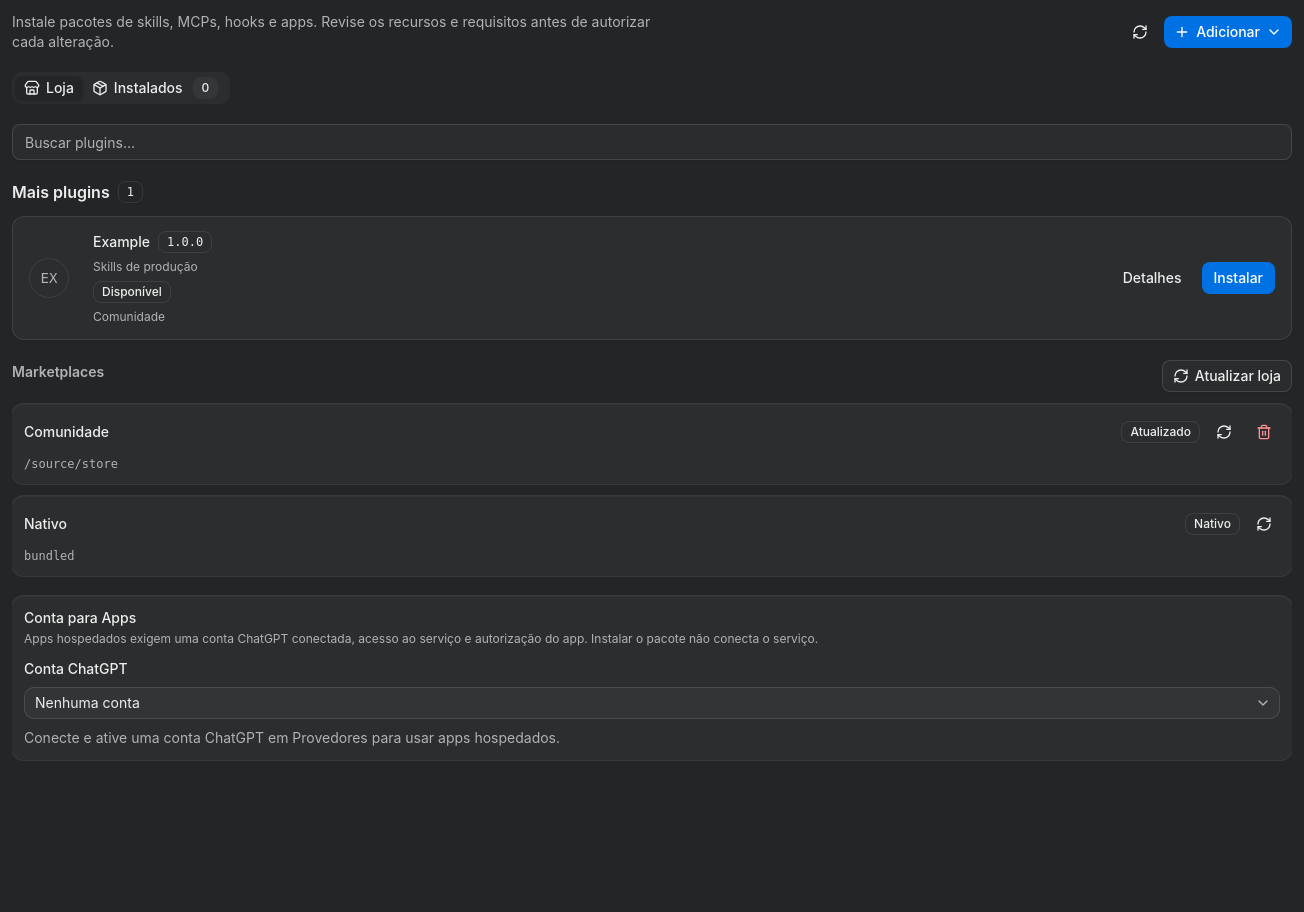
PluginsSettings › keeps the catalog horizontal inside vertical settings and exposes full add choices
Click the tab "Instalados 0". click: [155, 88]
box: [83, 76, 227, 100]
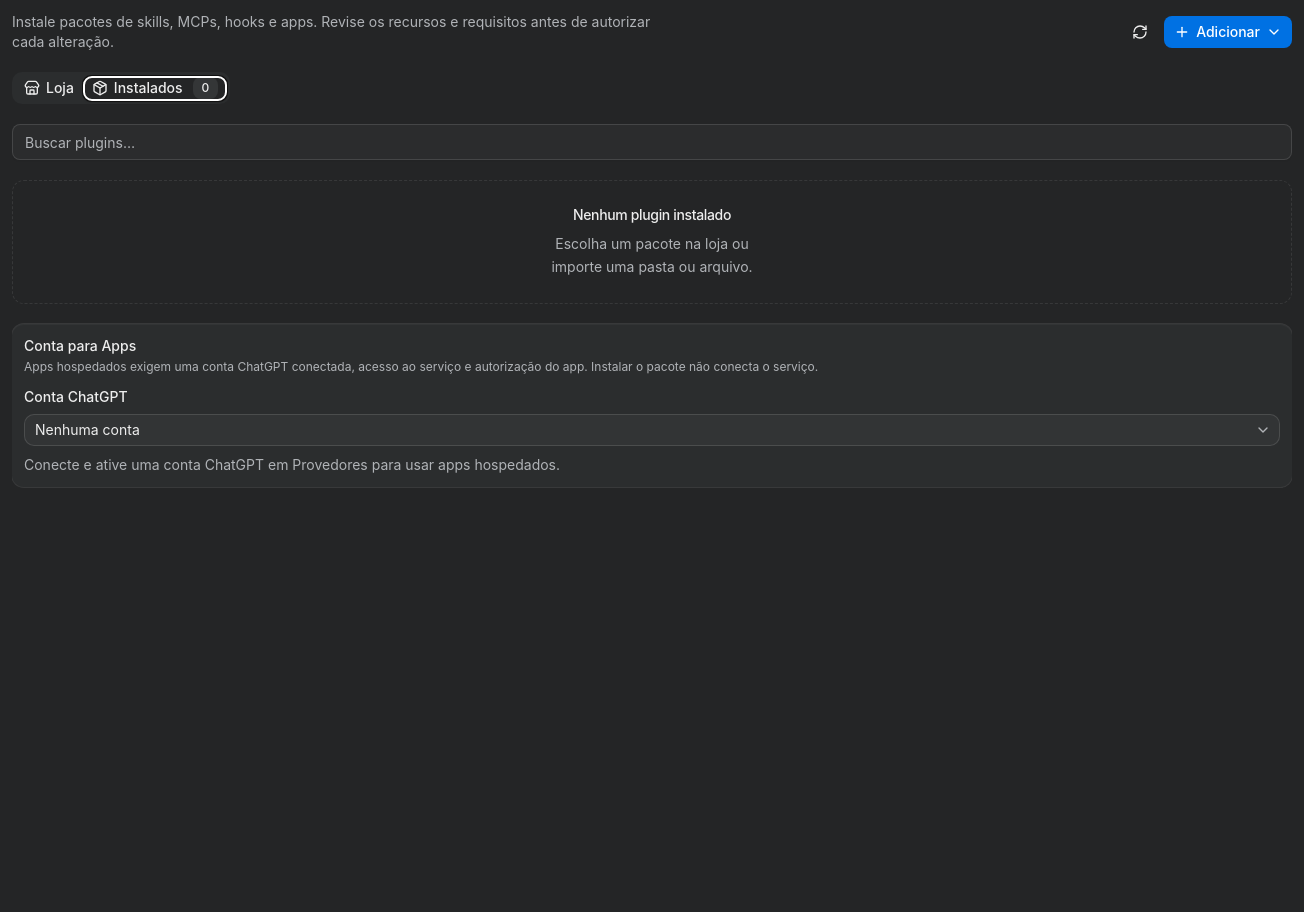
Expected: the text "Nenhum plugin instalado" is shown, [573, 205, 731, 225]
Click the button "Adicionar". click: [1228, 32]
box: [1164, 16, 1292, 48]
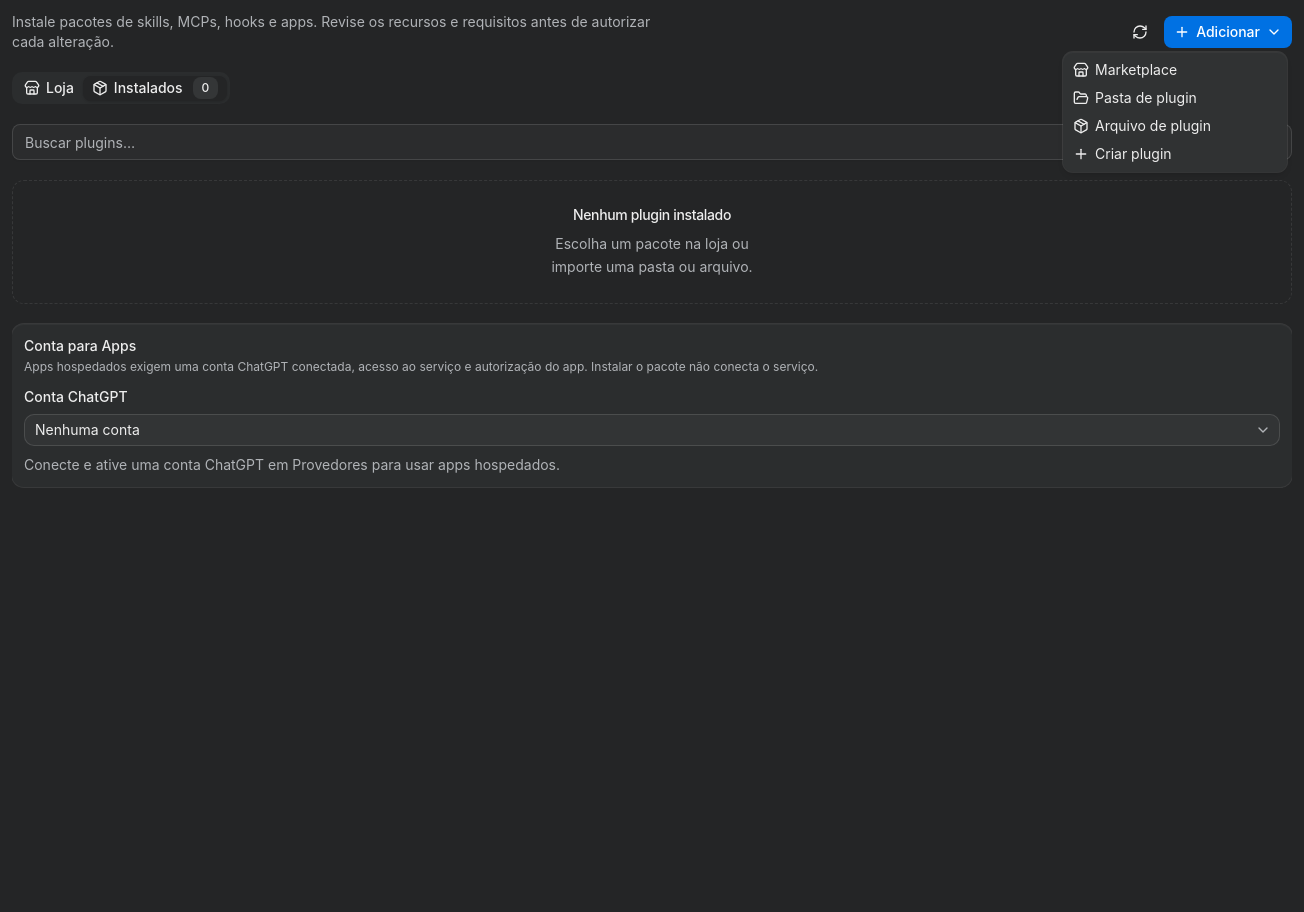
Expected: the menu items read "Marketplace", "Pasta de plugin", "Arquivo de plugin", "Criar plugin", in this order, [1073, 61, 1177, 78]; [1073, 89, 1197, 106]; [1073, 117, 1211, 134]; [1073, 145, 1172, 162]
